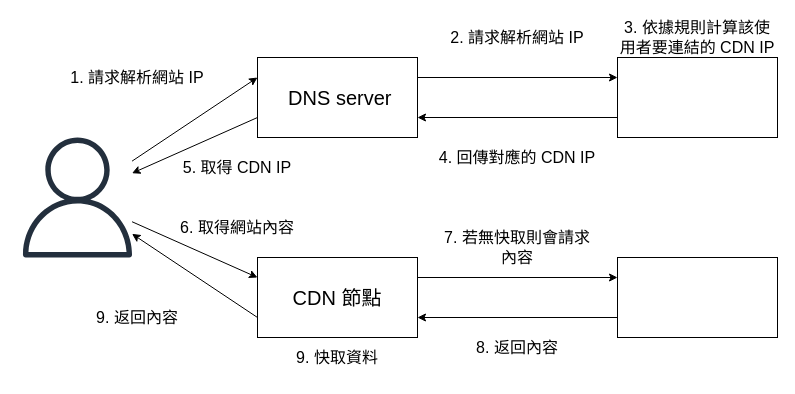
Some shapes in this 795 by 394 pixel diagram are drawn without their labels. Each missing label, with the centre of its shape:
"CDN 服務商的 DNS server" belongs at point (697, 97).
"主要伺服器" belongs at point (697, 297).
